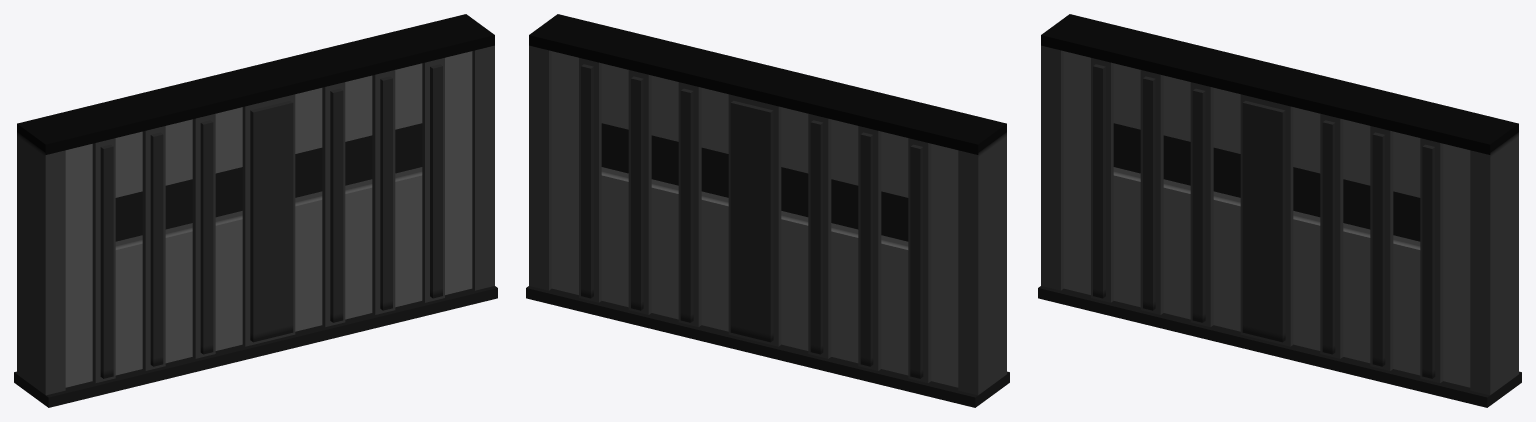
Rendered from Wall-Stone-Model-10.fbx.
The picture shows the model from 3 angles, left to right: view 1: azimuth 30°, elevation 25°; view 2: azimuth 150°, elevation 25°; view 3: azimuth 330°, elevation 25°; orthographic projection.
Parts seen in each view (by area): view 1: Wall-Stone-Model-10; view 2: Wall-Stone-Model-10; view 3: Wall-Stone-Model-10.
Part boxes in pixels (box(x1,y1,x2,y2)): Wall-Stone-Model-10: box(14, 14, 497, 407); Wall-Stone-Model-10: box(526, 14, 1009, 407); Wall-Stone-Model-10: box(1038, 14, 1521, 407).
Size of the model in its own units: 90 by 50 by 12.
1 material, 1 textured.
